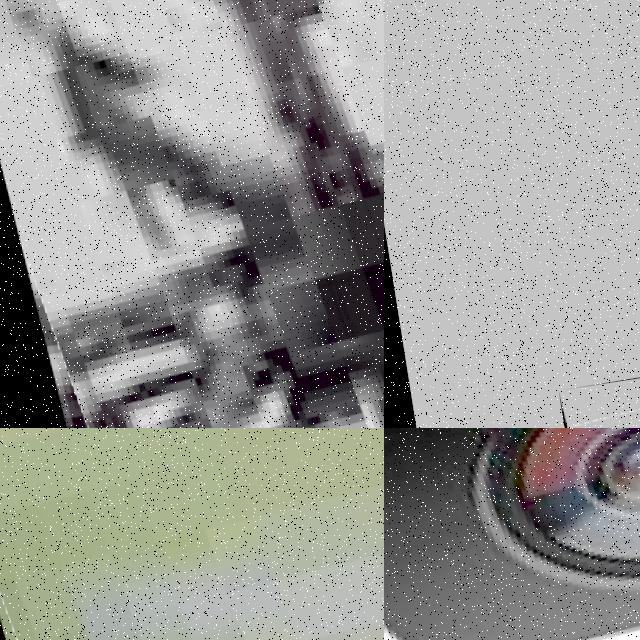drone: (0, 0, 384, 428), (0, 428, 384, 640), (384, 428, 640, 640)
